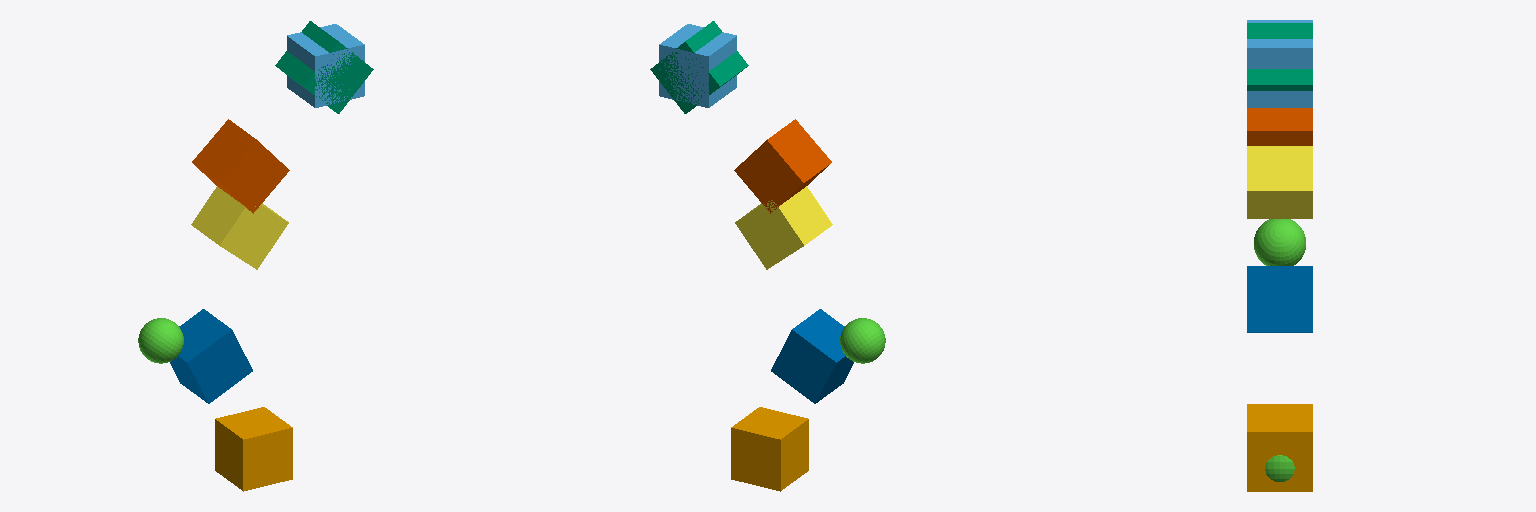
robot.urdf — UNNAMED_0:
<?xml version="1.0"?>
<robot  name="UNNAMED_0" >
 <link  name="EE" >
  <inertial >
   <origin  rpy="0.0 0.0 0.0"  xyz="-1.3877787807814457e-16 0.0 -3.3306690738754696e-16" />
   <mass  value="1" />
   <inertia  ixz="0"  iyz="0"  ixx="8.333333333333335e-10"  ixy="0"  izz="8.333333333333332e-14"  iyy="8.333333333333335e-10" />
  </inertial>
  <visual >
   <origin  rpy="0.0 0.0 0.0"  xyz="-1.3877787807814457e-16 0.0 -3.3306690738754696e-16" />
   <geometry >
    <box  size="0.1 0.1 0.1" />
   </geometry>
   <material  name="Grey" />
  </visual>
  <collision >
   <origin  rpy="0.0 0.0 0.0"  xyz="-1.3877787807814457e-16 0.0 -3.3306690738754696e-16" />
   <geometry >
    <box  size="0.1 0.1 0.1" />
   </geometry>
   <material  name="Grey" />
  </collision>
 </link>
 <link  name="G" >
  <inertial >
   <origin  rpy="0.0 0.0 0.0"  xyz="0 0 0" />
   <mass  value="1" />
   <inertia  ixz="0"  iyz="0"  ixx="8.333333333333335e-10"  ixy="0"  izz="8.333333333333332e-14"  iyy="8.333333333333335e-10" />
  </inertial>
  <visual >
   <origin  rpy="0.0 0.0 0.0"  xyz="0 0 0" />
   <geometry >
    <box  size="0.1 0.1 0.1" />
   </geometry>
   <material  name="Grey" />
  </visual>
  <collision >
   <origin  rpy="0.0 0.0 0.0"  xyz="0 0 0" />
   <geometry >
    <box  size="0.1 0.1 0.1" />
   </geometry>
   <material  name="Grey" />
  </collision>
 </link>
 <joint  type="revolute"  name="J1" >
  <parent  link="G" />
  <child  link="L3" />
  <origin  rpy="-3.141592653589793 -0.7853981633974488 3.141592653589793"  xyz="0.0 0.0 0.0" />
  <axis  xyz="0 1 0" />
  <limit  velocity="10"  lower="-3.141592653589793"  effort="2"  upper="3.141592653589793" />
  <dynamics  damping="0.05" />
 </joint>
 <link  name="L3" >
  <inertial >
   <origin  rpy="0.0 0.0 0.0"  xyz="6.056212518533348e-19 0.0 0.0035355339059327385" />
   <mass  value="1" />
   <inertia  ixz="0"  iyz="0"  ixx="8.333333333333335e-10"  ixy="0"  izz="8.333333333333332e-14"  iyy="8.333333333333335e-10" />
  </inertial>
  <visual >
   <origin  rpy="0.0 0.0 0.0"  xyz="6.056212518533348e-19 0.0 0.0035355339059327385" />
   <geometry >
    <box  size="0.1 0.1 0.1" />
   </geometry>
   <material  name="Grey" />
  </visual>
  <collision >
   <origin  rpy="0.0 0.0 0.0"  xyz="6.056212518533348e-19 0.0 0.0035355339059327385" />
   <geometry >
    <box  size="0.1 0.1 0.1" />
   </geometry>
   <material  name="Grey" />
  </collision>
 </link>
 <joint  type="revolute"  name="J2" >
  <parent  link="L3" />
  <child  link="L4" />
  <origin  rpy="0.0 -0.08328822586063023 0.0"  xyz="-0.048083261120685 0.0 0.110308657865101" />
  <axis  xyz="0 1 0" />
  <limit  velocity="10"  lower="-3.141592653589793"  effort="2"  upper="3.141592653589793" />
  <dynamics  damping="0.05" />
 </joint>
 <joint  type="revolute"  name="J5" >
  <parent  link="L3" />
  <child  link="L6" />
  <origin  rpy="0.0 0.055410732051877076 0.0"  xyz="0.0 0.0 0.007071067811865" />
  <axis  xyz="0 1 0" />
  <limit  velocity="10"  lower="-3.141592653589793"  effort="2"  upper="3.141592653589793" />
  <dynamics  damping="0.05" />
 </joint>
 <link  name="L4" >
  <inertial >
   <origin  rpy="0.0 0.0 0.0"  xyz="-1.1796119636642288e-16 0.0 0.19974295982587245" />
   <mass  value="1" />
   <inertia  ixz="0"  iyz="0"  ixx="8.333333333333335e-10"  ixy="0"  izz="8.333333333333332e-14"  iyy="8.333333333333335e-10" />
  </inertial>
  <visual >
   <origin  rpy="0.0 0.0 0.0"  xyz="-1.1796119636642288e-16 0.0 0.19974295982587245" />
   <geometry >
    <box  size="0.1 0.1 0.1" />
   </geometry>
   <material  name="Grey" />
  </visual>
  <collision >
   <origin  rpy="0.0 0.0 0.0"  xyz="-1.1796119636642288e-16 0.0 0.19974295982587245" />
   <geometry >
    <box  size="0.1 0.1 0.1" />
   </geometry>
   <material  name="Grey" />
  </collision>
 </link>
 <link  name="L5" >
  <inertial >
   <origin  rpy="0.0 0.0 0.0"  xyz="2.498001805406602e-16 0.0 0.2234155321368682" />
   <mass  value="1" />
   <inertia  ixz="0"  iyz="0"  ixx="8.333333333333335e-10"  ixy="0"  izz="8.333333333333332e-14"  iyy="8.333333333333335e-10" />
  </inertial>
  <visual >
   <origin  rpy="0.0 0.0 0.0"  xyz="2.498001805406602e-16 0.0 0.2234155321368682" />
   <geometry >
    <box  size="0.1 0.1 0.1" />
   </geometry>
   <material  name="Grey" />
  </visual>
  <collision >
   <origin  rpy="0.0 0.0 0.0"  xyz="2.498001805406602e-16 0.0 0.2234155321368682" />
   <geometry >
    <box  size="0.1 0.1 0.1" />
   </geometry>
   <material  name="Grey" />
  </collision>
 </link>
 <joint  type="revolute"  name="J4" >
  <parent  link="L5" />
  <child  link="EE" />
  <origin  rpy="-3.141592653589793 -0.44663223428796117 3.141592653589793"  xyz="0.0 0.0 0.446831064273736" />
  <axis  xyz="0 1 0" />
  <limit  velocity="10"  lower="-3.141592653589793"  effort="2"  upper="3.141592653589793" />
  <dynamics  damping="0.05" />
 </joint>
 <link  name="L6" >
  <inertial >
   <origin  rpy="0.0 0.0 0.0"  xyz="-4.1297260749972864e-16 0.0 0.22343511362362026" />
   <mass  value="1" />
   <inertia  ixz="0"  iyz="0"  ixx="8.333333333333335e-10"  ixy="0"  izz="8.333333333333332e-14"  iyy="8.333333333333335e-10" />
  </inertial>
  <visual >
   <origin  rpy="0.0 0.0 0.0"  xyz="-4.1297260749972864e-16 0.0 0.22343511362362026" />
   <geometry >
    <box  size="0.1 0.1 0.1" />
   </geometry>
   <material  name="Grey" />
  </visual>
  <collision >
   <origin  rpy="0.0 0.0 0.0"  xyz="-4.1297260749972864e-16 0.0 0.22343511362362026" />
   <geometry >
    <box  size="0.1 0.1 0.1" />
   </geometry>
   <material  name="Grey" />
  </collision>
 </link>
 <joint  type="revolute"  name="J6" >
  <parent  link="L6" />
  <child  link="L5" />
  <origin  rpy="0.0 -1.2874411297372874 0.0"  xyz="-1e-15 0.0 0.44687022724724" />
  <axis  xyz="0 1 0" />
  <limit  velocity="10"  lower="-3.141592653589793"  effort="2"  upper="3.141592653589793" />
  <dynamics  damping="0.05" />
 </joint>

 <link  name="L4F" >
  <inertial >
   <origin  rpy="0.0 0.0 0.0"  xyz="0.0 0.0 0.0" />
   <mass  value="0" />
   <inertia  ixz="0"  iyz="0"  ixx="0"  ixy="0"  izz="0"  iyy="0" />
  </inertial>
  <visual >
   <origin  rpy="0.0 0.0 0.0"  xyz="0.0 0.0 0.0" />
   <geometry >
        <sphere radius="0.04"/>
   </geometry>
    <material  name="L4F_material" >
        <color  rgba="0.39284838413773693 0.8490635282216377 0.2909041756510121 0.2" />
   </material>
  </visual>
 </link>


  <link  name="L5F" >
  <inertial >
   <origin  rpy="0.0 0.0 0.0"  xyz="0.0 0.0 0.0" />
   <mass  value="0" />
   <inertia  ixz="0"  iyz="0"  ixx="0"  ixy="0"  izz="0"  iyy="0" />
  </inertial>
  <visual >
   <origin  rpy="0.0 0.0 0.0"  xyz="0.0 0.0 0.0" />
   <geometry >
        <sphere radius="0.05"/>
   </geometry>
    <material  name="L4F_material" >
        <color  rgba="0.39284838413773693 0.8490635282216377 0.2909041756510121 0.2" />
   </material>
  </visual>
 </link>


<joint  type="revolute"  name="J7" >
    <parent  link="L4" />
    <child  link="L4F" />
    <origin  rpy="0.0 0.0 0.0"  xyz="0.0 0.0 0.44687022724724" />
    <axis  xyz="0 1 0" />
    <limit  velocity="10"  lower="-3.141592653589793"  effort="2"  upper="3.141592653589793" />

</joint>


<joint  type="fixed"  name="J8" >
    <parent  link="L5" />
    <child  link="L5F" />
    <origin  rpy="0.0 0.0 0.0"  xyz="0.0 0.0 0.46" />
    <axis  xyz="0 0 0" />
</joint>

</robot>

--- Facts derived from the render (not from the file) ---
The picture shows the robot from 3 angles, left to right: view 1: azimuth 30°, elevation 25°; view 2: azimuth 150°, elevation 25°; view 3: azimuth 270°, elevation 25°; orthographic projection.
Robot: UNNAMED_0 — 8 links, 7 joints (6 revolute, 1 fixed); root link G; default pose: every joint at zero.
Visible links, largest first — view 1: EE, L6, L5, L4, L3, G, L4F; view 2: EE, L6, L5, L4, G, L3, L4F; view 3: EE, L4, L5, G, L3, L6, L4F, L5F.
Boxes of the visible links, x1,y1,x2,y2 form: EE: [215, 407, 292, 491]; L6: [192, 119, 289, 213]; L5: [170, 309, 252, 403]; L4: [191, 186, 288, 269]; L3: [275, 21, 373, 113]; G: [287, 24, 364, 107]; L4F: [138, 318, 183, 363]; EE: [731, 407, 808, 491]; L6: [734, 119, 831, 213]; L5: [771, 309, 853, 403]; L4: [735, 186, 832, 269]; G: [659, 24, 736, 107]; L3: [650, 21, 748, 113]; L4F: [840, 318, 885, 363]; EE: [1247, 404, 1312, 491]; L4: [1247, 146, 1312, 218]; L5: [1247, 266, 1312, 332]; G: [1247, 20, 1312, 107]; L3: [1247, 23, 1312, 90]; L6: [1247, 108, 1312, 145]; L4F: [1254, 219, 1305, 265]; L5F: [1265, 455, 1294, 481].
Bounding box of the posed robot: 0.4407 × 0.1 × 0.836 m (x, y, z).
Geometry: primitives only (box / cylinder / sphere), no mesh files.
